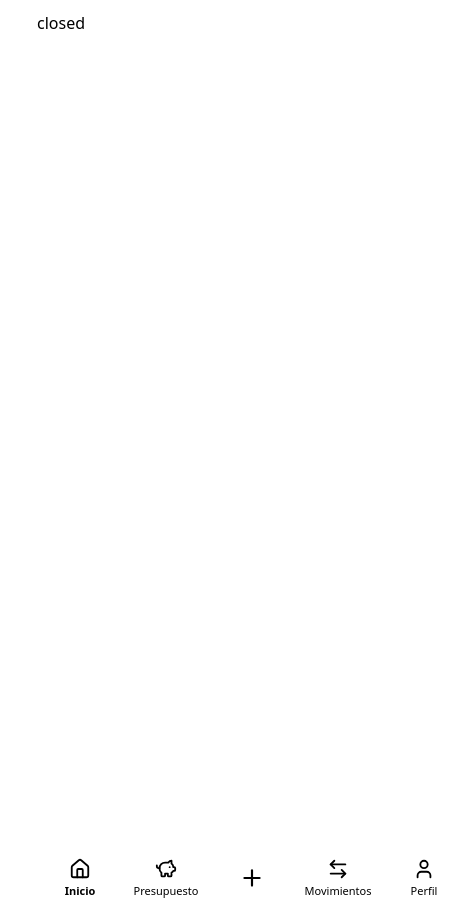
Scenario: BottomNav › opens the create sheet from the FAB through openCreate()
expect the text with test id "sheet-state" reads "closed": met, box 37,12 -> 85,34
Click the button named "Agregar movimiento" at {"x": 252, "y": 878}, box 226,852 -> 278,904
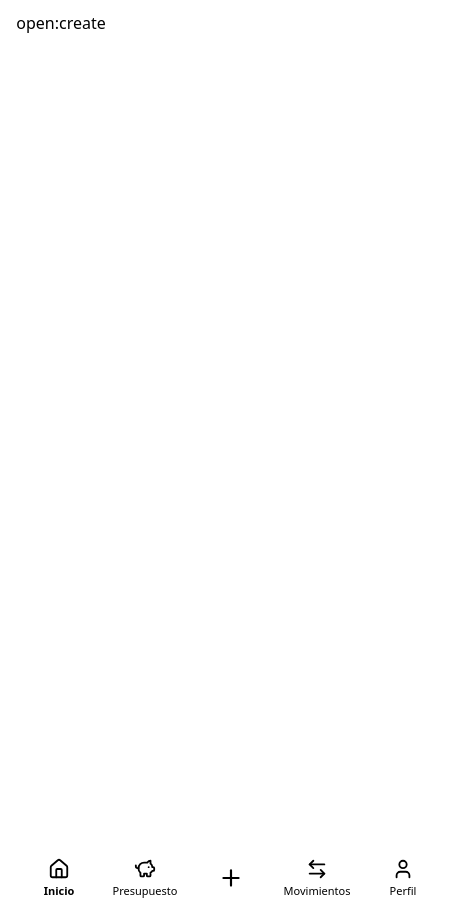
expect the text with test id "sheet-state" reads "open:create": met, box 16,12 -> 106,34
